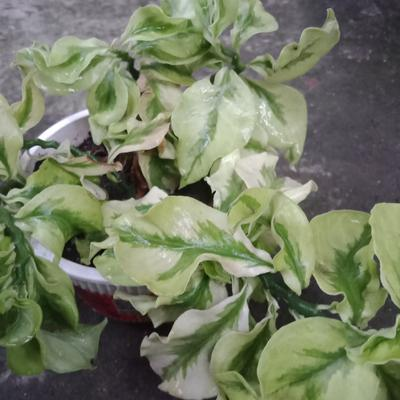Pothos plant: (50, 41, 355, 332)
